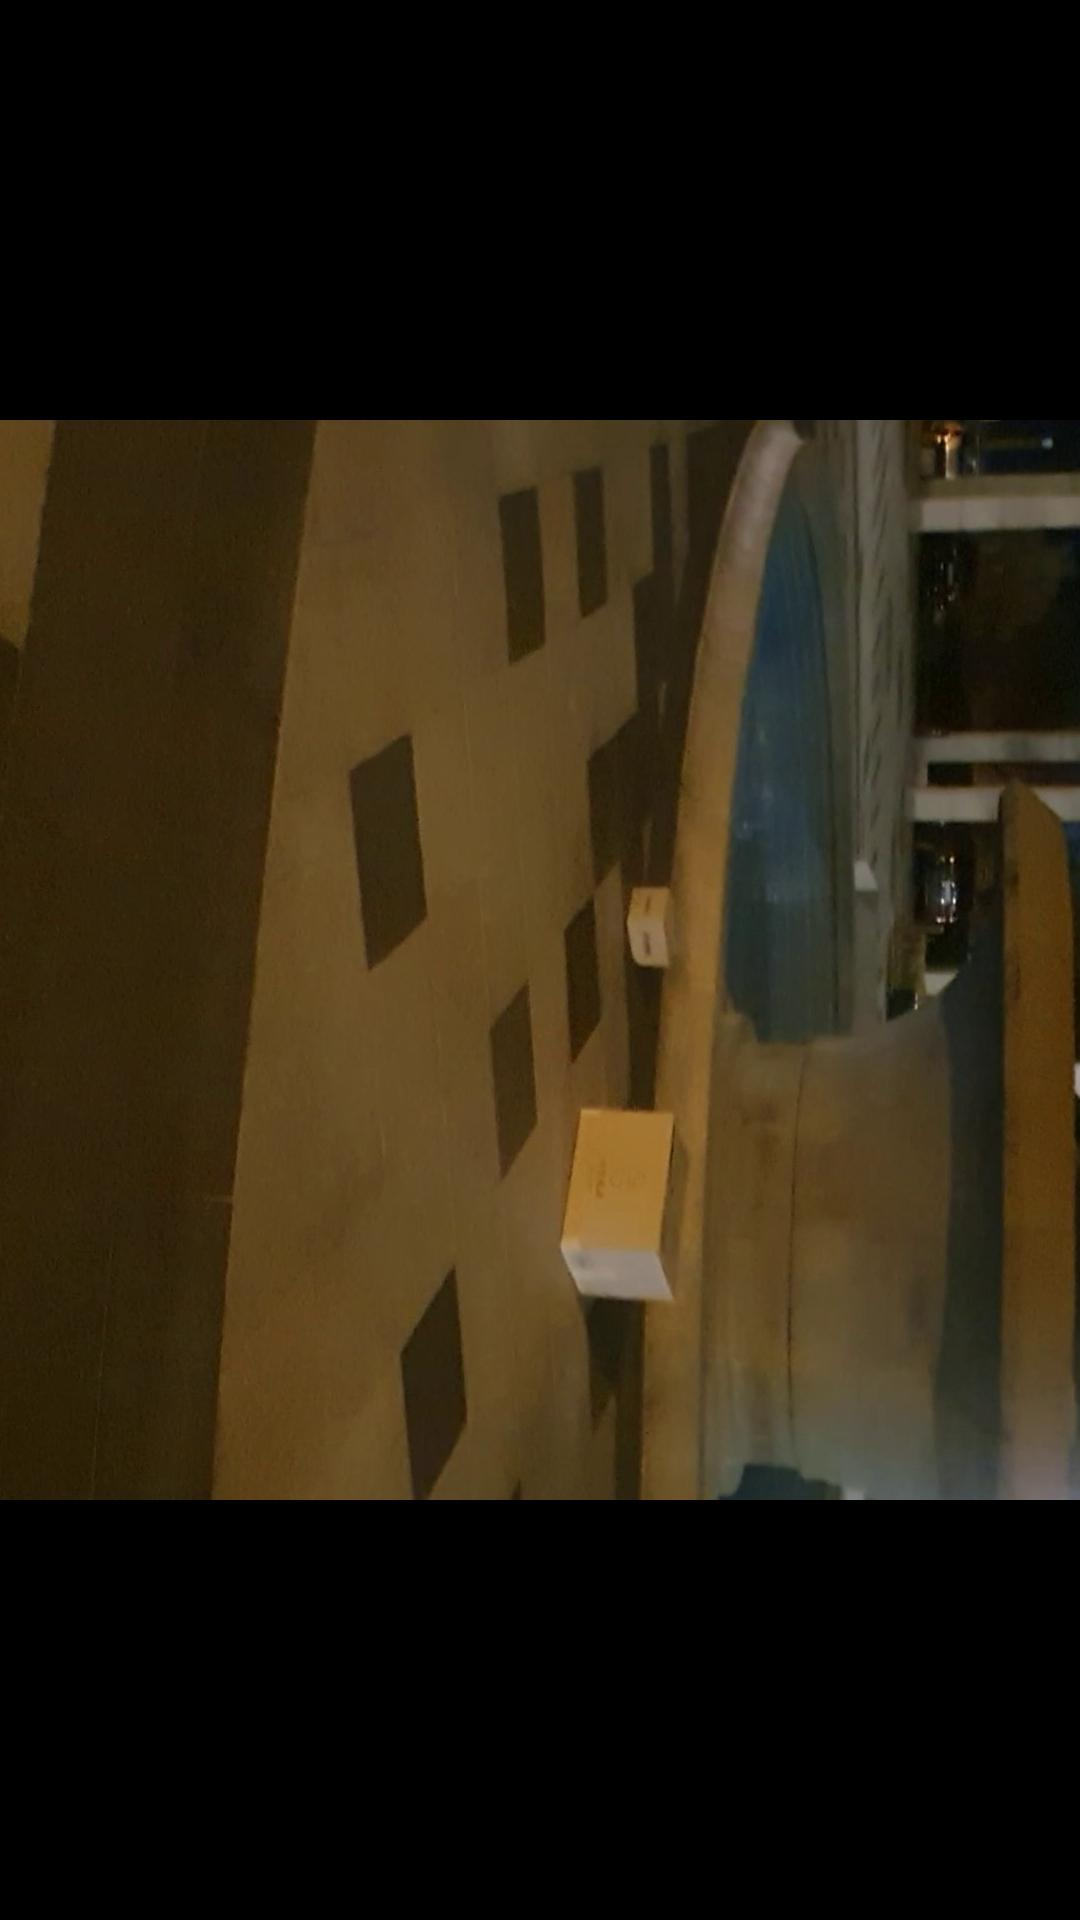Box: (549, 1096, 690, 1315), (618, 881, 690, 971)
